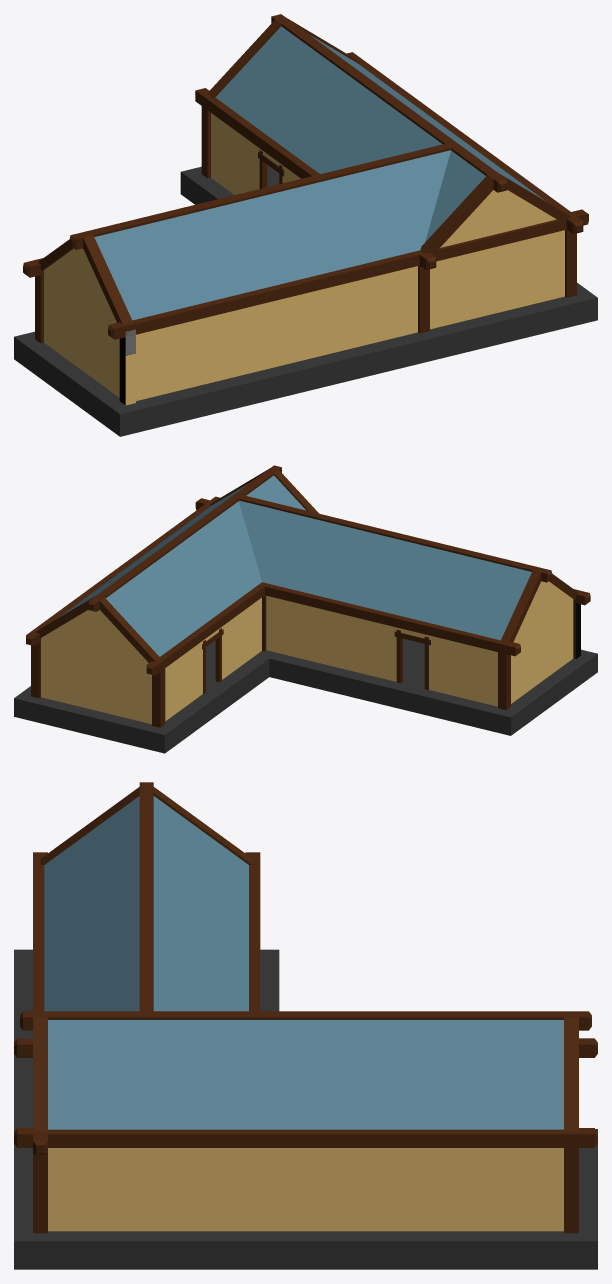
The model's file is MBS_City_SmallHouse02.fbx.
The picture shows the model from 3 angles, top to bottom: view 1: azimuth 30°, elevation 25°; view 2: azimuth 150°, elevation 25°; view 3: azimuth 270°, elevation 25°; orthographic projection. The views are drawn at different scales.
Parts seen in each view (by area): view 1: Cube.629; view 2: Cube.629; view 3: Cube.629.
Boxes of the visible parts, bbox=[...] form: Cube.629: bbox=[14, 14, 597, 436]; Cube.629: bbox=[14, 465, 597, 753]; Cube.629: bbox=[14, 782, 597, 1269].
Bounding box in the file's own units: 2600 × 828 × 2200.
